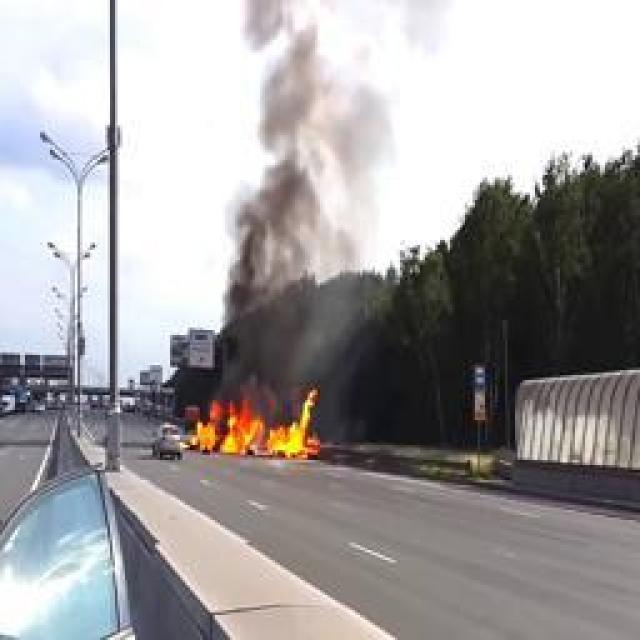Fire: (194, 390, 318, 460)
